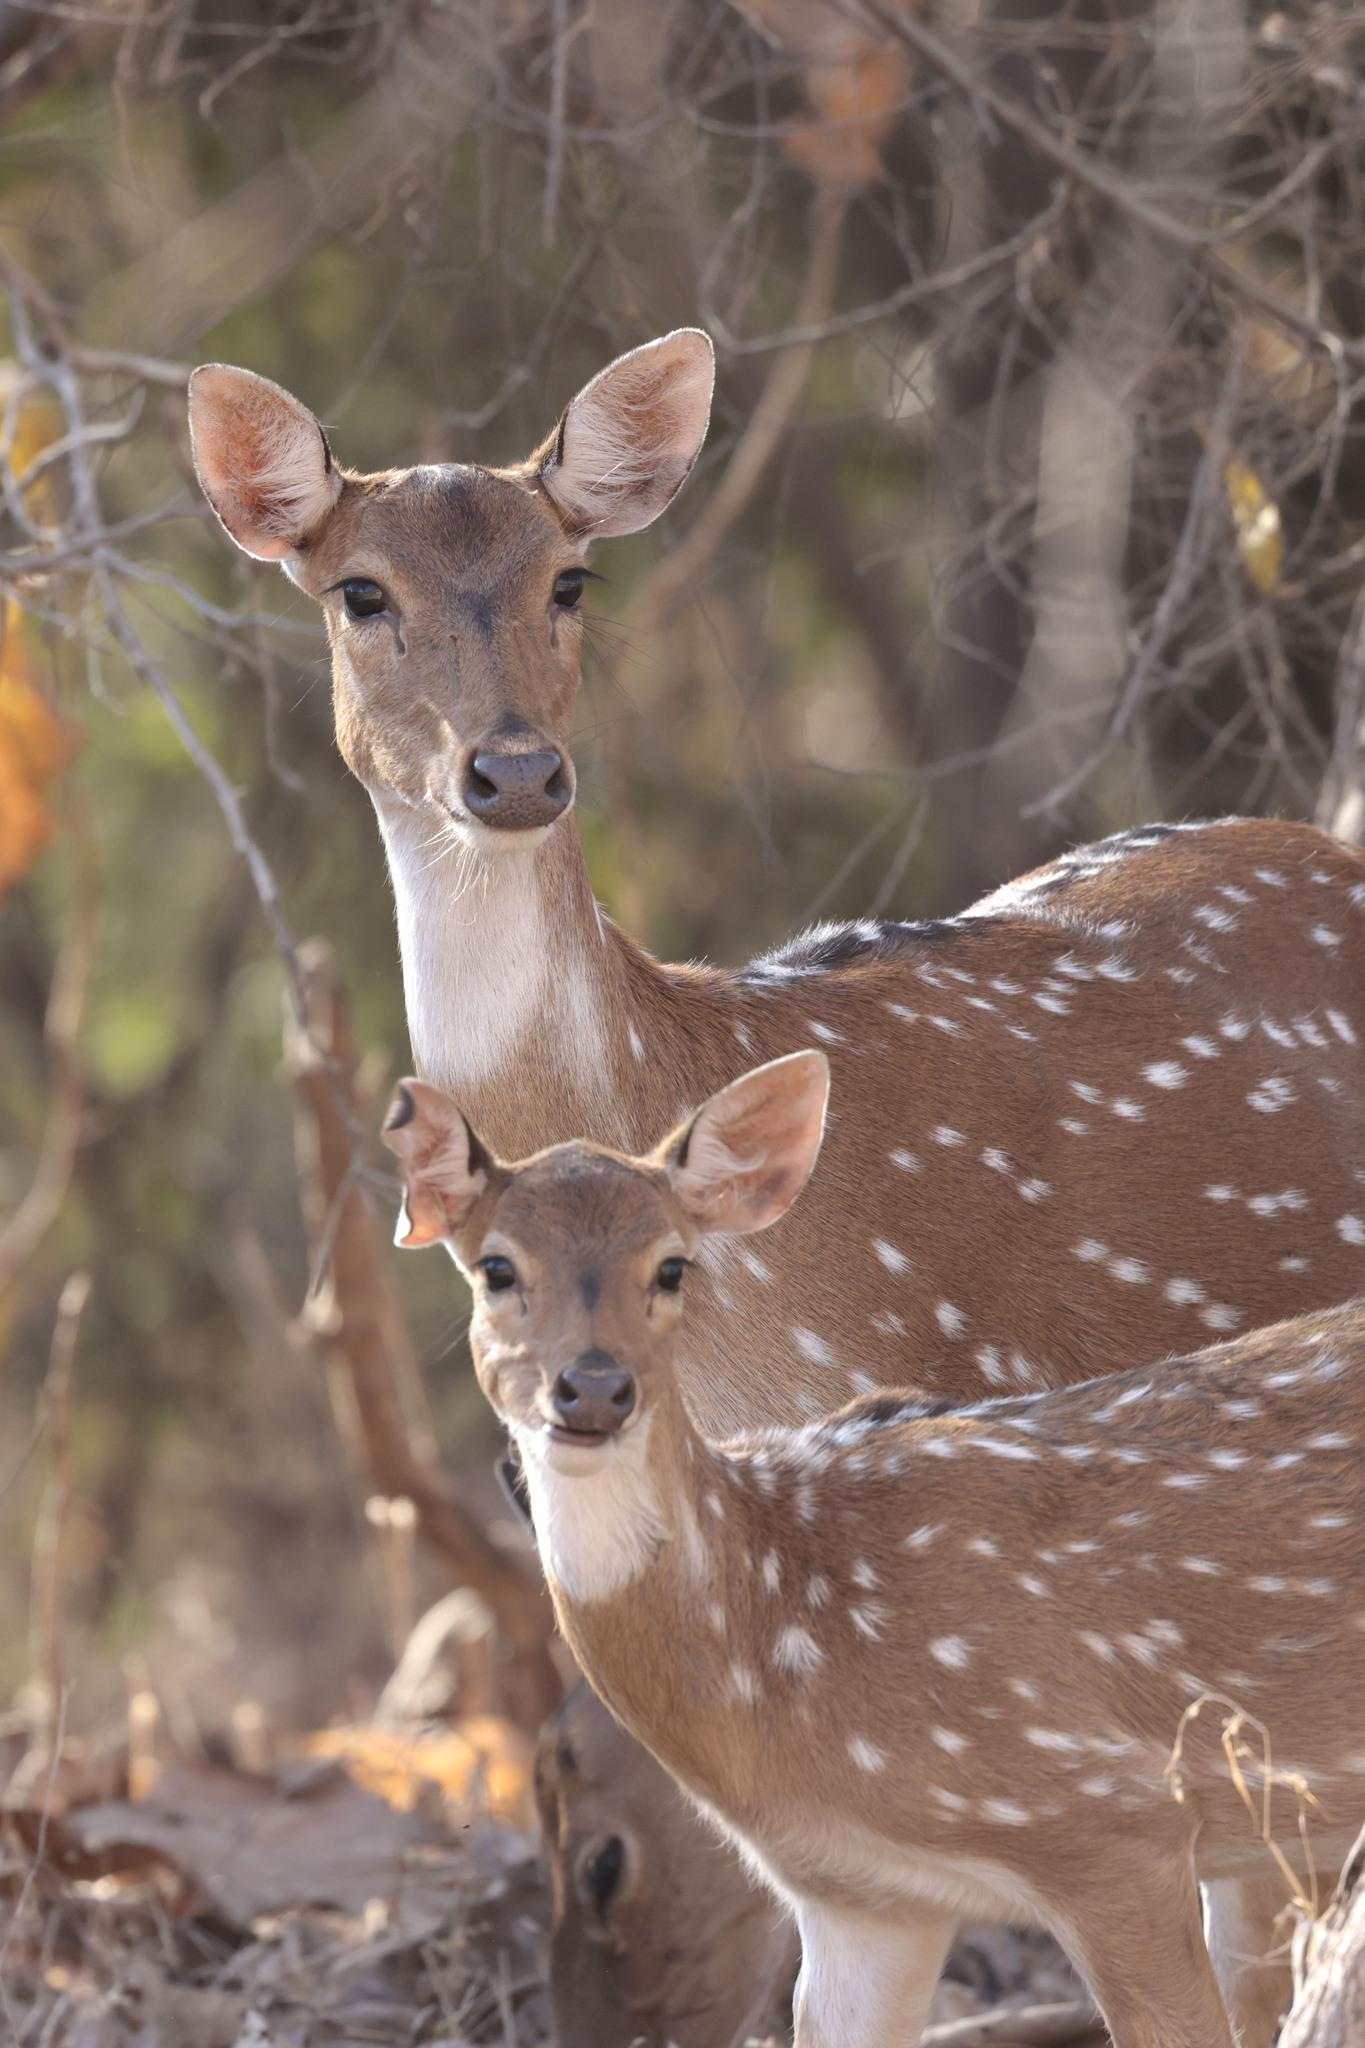Deer: (190, 330, 1363, 1433), (385, 1055, 1363, 2046)
